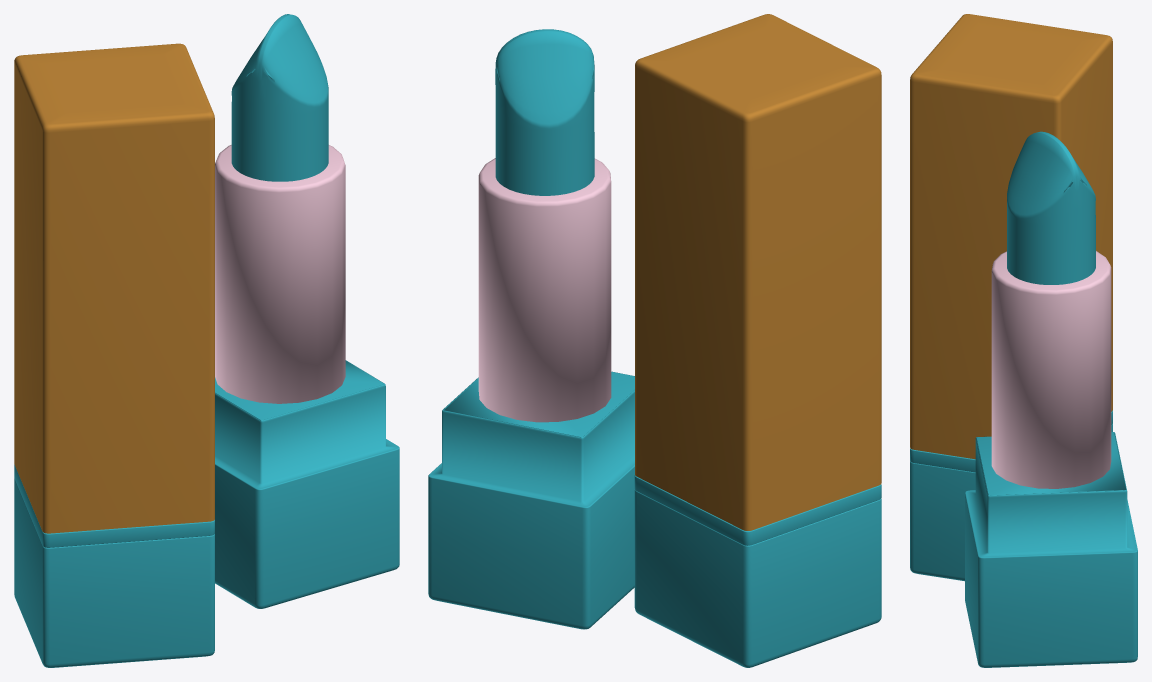
The model's file is kouhong.glb.
3 renders of one model, left to right at view 1: azimuth 30°, elevation 25°; view 2: azimuth 150°, elevation 25°; view 3: azimuth 270°, elevation 25°, orthographic. The views are drawn at different scales.
Visible parts, largest first — view 1: Obj3d66_1309497_5_883.002, Obj3d66_1309497_3_584.002, Obj3d66_1309497_2_914.002, Obj3d66_1309497_7_682.002, Obj3d66_1309497_1_130.002, Obj3d66_1309497_8_290.002; view 2: Obj3d66_1309497_5_883.002, Obj3d66_1309497_3_584.002, Obj3d66_1309497_2_914.002, Obj3d66_1309497_7_682.002, Obj3d66_1309497_1_130.002, Obj3d66_1309497_8_290.002; view 3: Obj3d66_1309497_5_883.002, Obj3d66_1309497_3_584.002, Obj3d66_1309497_2_914.002, Obj3d66_1309497_1_130.002, Obj3d66_1309497_7_682.002, Obj3d66_1309497_8_290.002.
Part boxes in pixels (<box>): Obj3d66_1309497_5_883.002: <box>14,43,214,533</box>; Obj3d66_1309497_3_584.002: <box>215,360,399,608</box>; Obj3d66_1309497_2_914.002: <box>215,145,345,403</box>; Obj3d66_1309497_7_682.002: <box>14,478,214,667</box>; Obj3d66_1309497_1_130.002: <box>231,14,328,181</box>; Obj3d66_1309497_8_290.002: <box>14,464,214,547</box>; Obj3d66_1309497_5_883.002: <box>635,14,881,530</box>; Obj3d66_1309497_3_584.002: <box>428,371,634,629</box>; Obj3d66_1309497_2_914.002: <box>478,158,611,422</box>; Obj3d66_1309497_7_682.002: <box>634,490,881,667</box>; Obj3d66_1309497_1_130.002: <box>495,29,594,195</box>; Obj3d66_1309497_8_290.002: <box>634,475,881,545</box>; Obj3d66_1309497_5_883.002: <box>910,14,1112,459</box>; Obj3d66_1309497_3_584.002: <box>965,432,1137,667</box>; Obj3d66_1309497_2_914.002: <box>991,251,1111,488</box>; Obj3d66_1309497_1_130.002: <box>1007,131,1095,284</box>; Obj3d66_1309497_7_682.002: <box>910,423,1112,581</box>; Obj3d66_1309497_8_290.002: <box>910,410,1112,472</box>.
Bounding box in the file's own units: 51.45 × 73.72 × 30.33.
